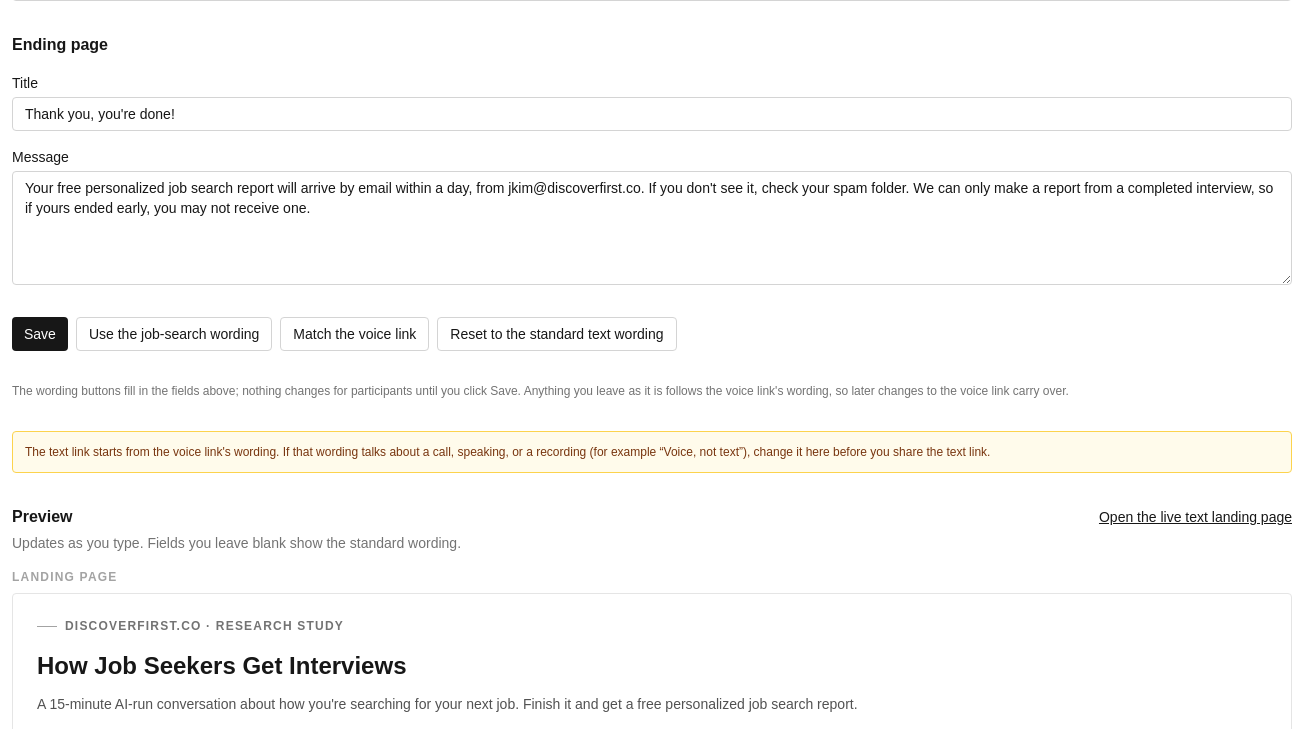
Test: ParticipantPagesForm for the text link › saves nothing but null, for the text link, when it is left matching the voice link
(page scrolled)
Click the button "Save" at x=40, y=334, box [12,317,68,351]
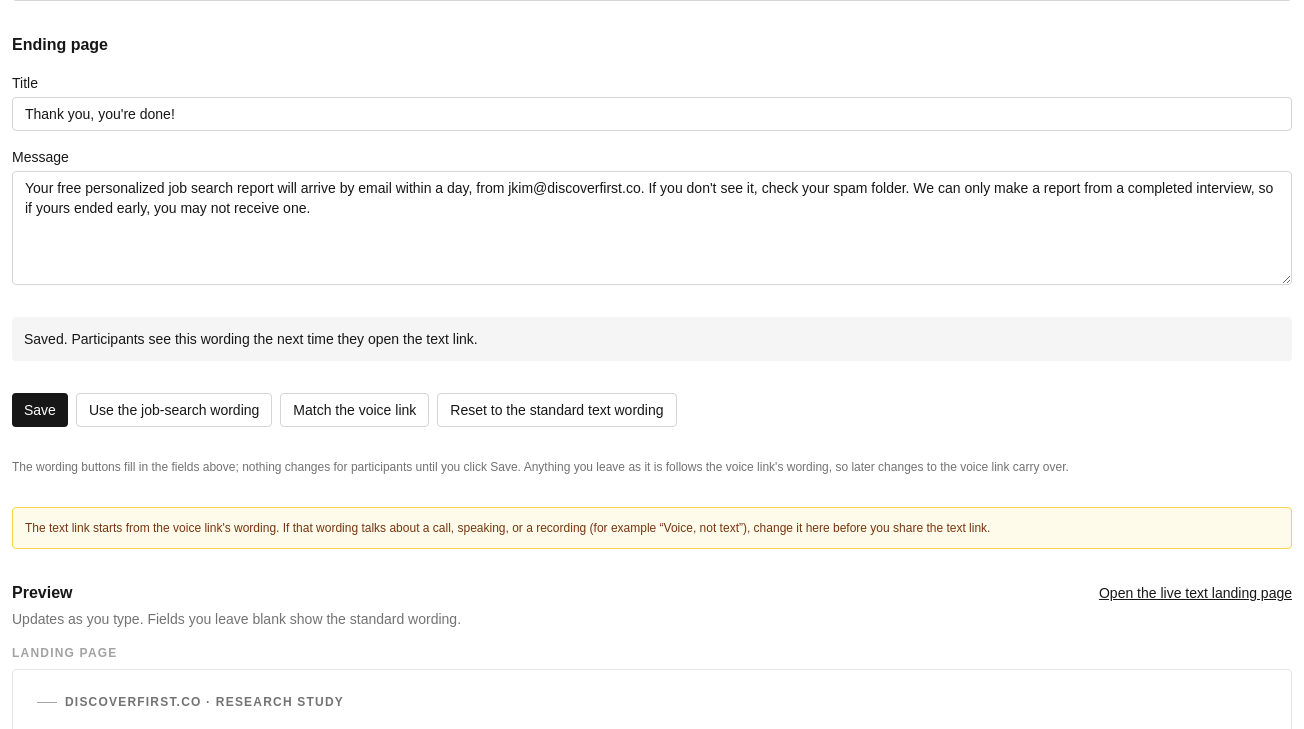
expect the text "next time they open the text link" is shown: met, box [24,331,478,347]
